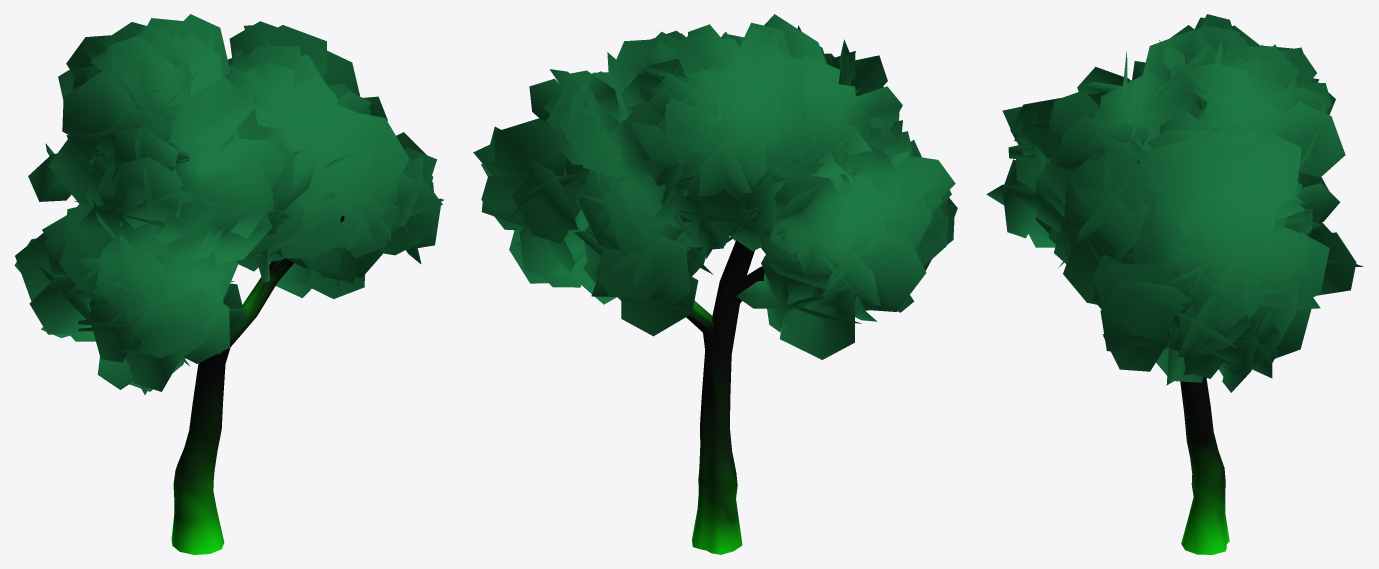
Rendered from SM_OakTreeLarge2.fbx.
3 renders of one model, left to right at view 1: azimuth 30°, elevation 25°; view 2: azimuth 150°, elevation 25°; view 3: azimuth 270°, elevation 25°, orthographic. The views are drawn at different scales.
Parts seen in each view (by area): view 1: SM_OakTreeLarge2_LOD0; view 2: SM_OakTreeLarge2_LOD0; view 3: SM_OakTreeLarge2_LOD0.
Boxes of the visible parts, <box> form: SM_OakTreeLarge2_LOD0: <box>14,14,443,554</box>; SM_OakTreeLarge2_LOD0: <box>473,14,957,554</box>; SM_OakTreeLarge2_LOD0: <box>986,14,1363,554</box>.
Size of what is drawn, in the model's own units: 23.9 by 19.55 by 28.74.
